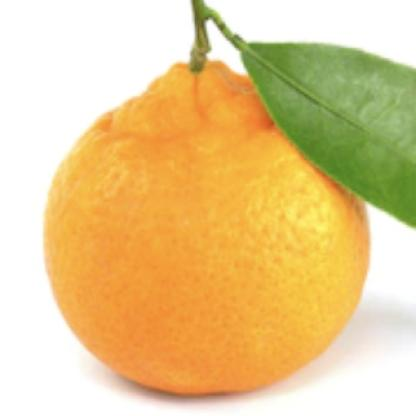fresh: (44, 56, 373, 400)
